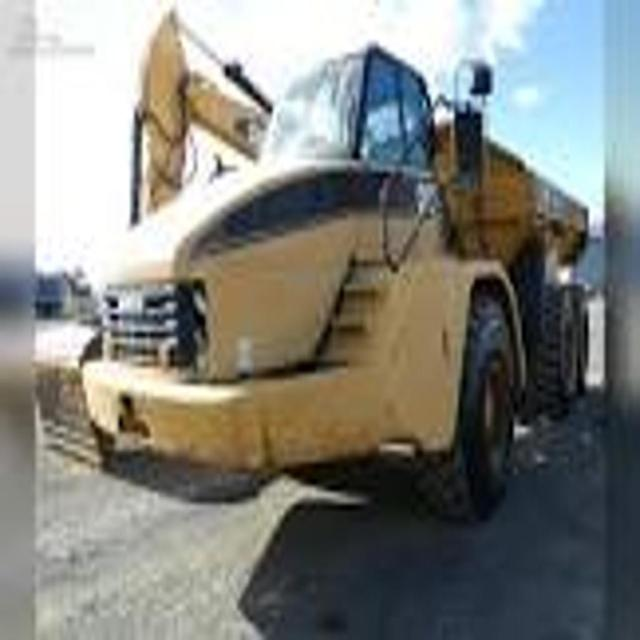dump_truck: (94, 1, 590, 548)
